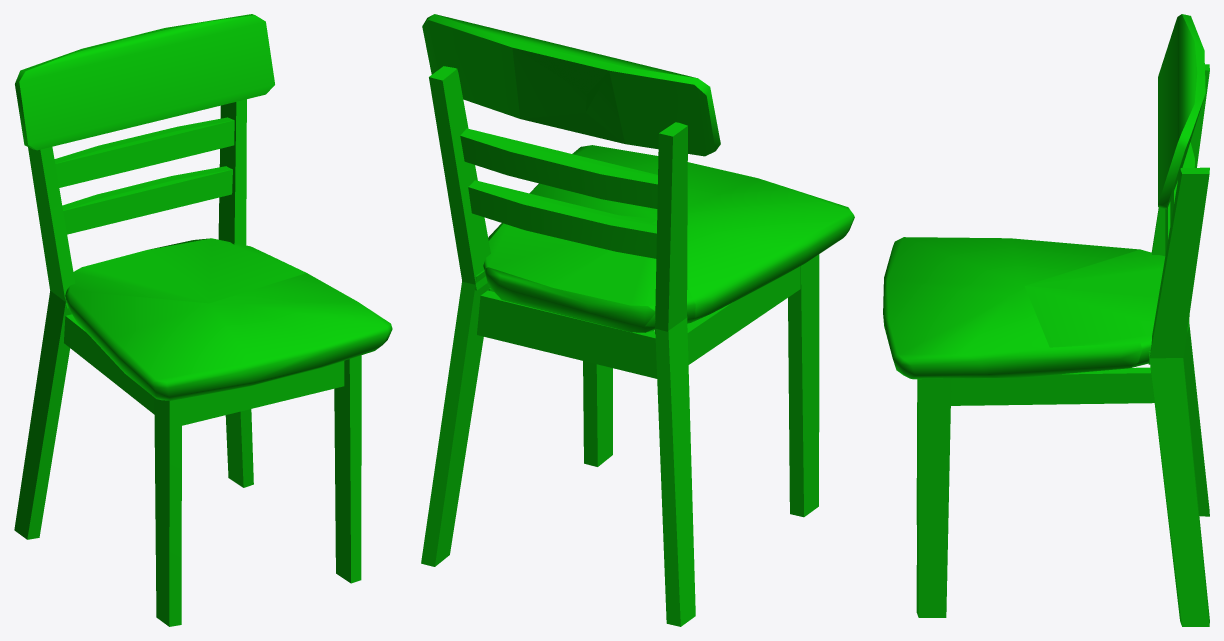
The model's file is UCX_Chair1.fbx.
3 renders of one model, left to right at view 1: azimuth 30°, elevation 25°; view 2: azimuth 150°, elevation 25°; view 3: azimuth 270°, elevation 25°, orthographic. The views are drawn at different scales.
Visible parts, largest first — view 1: UCX_Chair1; view 2: UCX_Chair1; view 3: UCX_Chair1.
Part boxes in pixels (left/top/right/bottom): UCX_Chair1: left=14, top=14, right=392, bottom=626; UCX_Chair1: left=421, top=14, right=854, bottom=626; UCX_Chair1: left=883, top=14, right=1209, bottom=626.
Size of the model in its own units: 0.4481 by 0.8111 by 0.4846.
